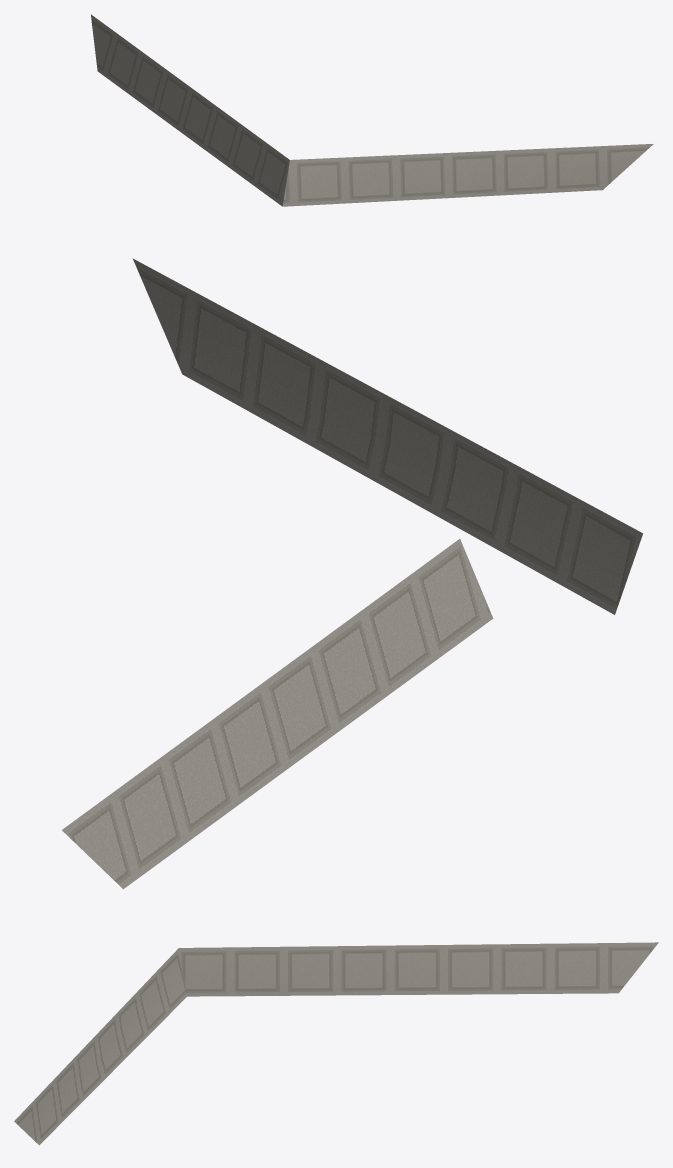
File: kd_stage_13612f_5_10.glb
3 views of the same model, one above another, from view 1: azimuth 30°, elevation 25°; view 2: azimuth 150°, elevation 25°; view 3: azimuth 270°, elevation 25° (orthographic). The views are drawn at different scales.
Parts seen in each view (by area): view 1: kd_stage_13612f_5_10; view 2: kd_stage_13612f_5_10; view 3: kd_stage_13612f_5_10.
Part boxes in pixels (bbox=[...]): kd_stage_13612f_5_10: bbox=[91, 14, 653, 206]; kd_stage_13612f_5_10: bbox=[62, 258, 642, 889]; kd_stage_13612f_5_10: bbox=[14, 942, 658, 1145].
Size of the model in its own units: 5.72 by 0.6043 by 8.17.
1 material, 1 textured.
